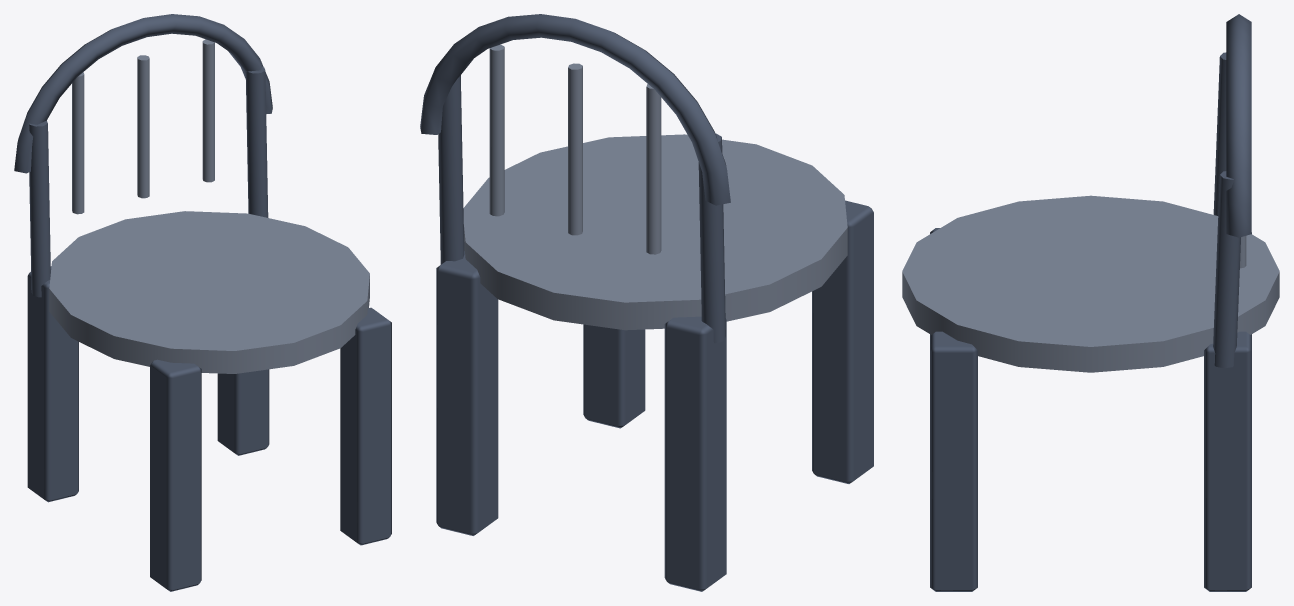
The model's file is 圆背庭院椅-lite.glb.
3 views of the same model, side by side, from view 1: azimuth 30°, elevation 25°; view 2: azimuth 150°, elevation 25°; view 3: azimuth 270°, elevation 25° (orthographic). The views are drawn at different scales.
Parts seen in each view (by area): view 1: garden-chair-bistro; view 2: garden-chair-bistro; view 3: garden-chair-bistro.
Boxes of the visible parts, x1,y1,x2,y2 form: garden-chair-bistro: (14,14,391,591); garden-chair-bistro: (420,14,873,591); garden-chair-bistro: (902,14,1279,591).
Bounding box in the file's own units: 0.55 × 0.85 × 0.58.
